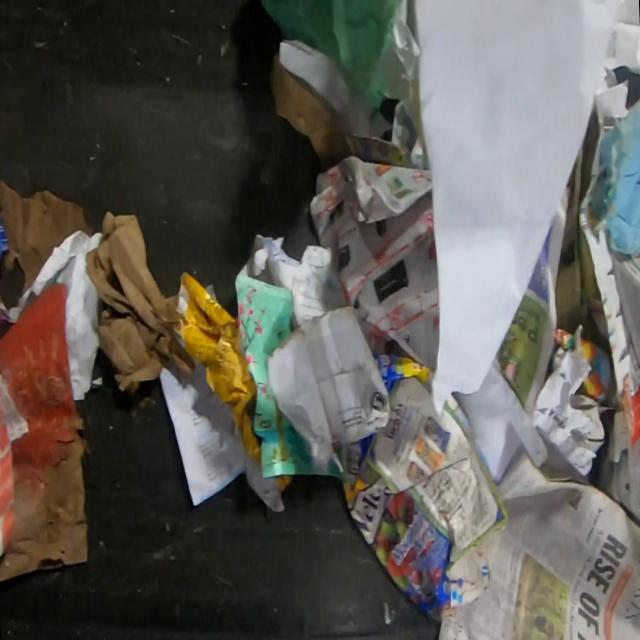cardboard: (343, 352, 508, 624), (233, 231, 358, 483), (263, 234, 390, 467), (0, 280, 94, 582), (578, 75, 640, 464), (85, 208, 198, 402), (266, 49, 415, 172), (174, 269, 260, 467), (0, 177, 100, 297), (272, 474, 296, 495)
